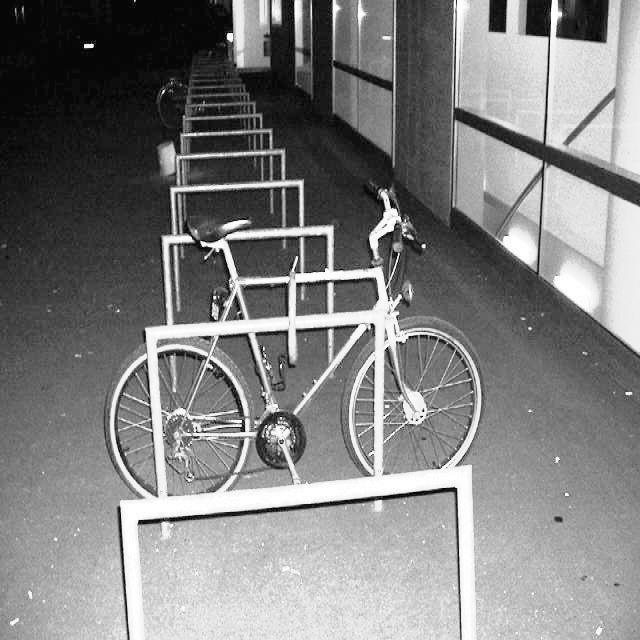Bicycle: (102, 178, 486, 489)
